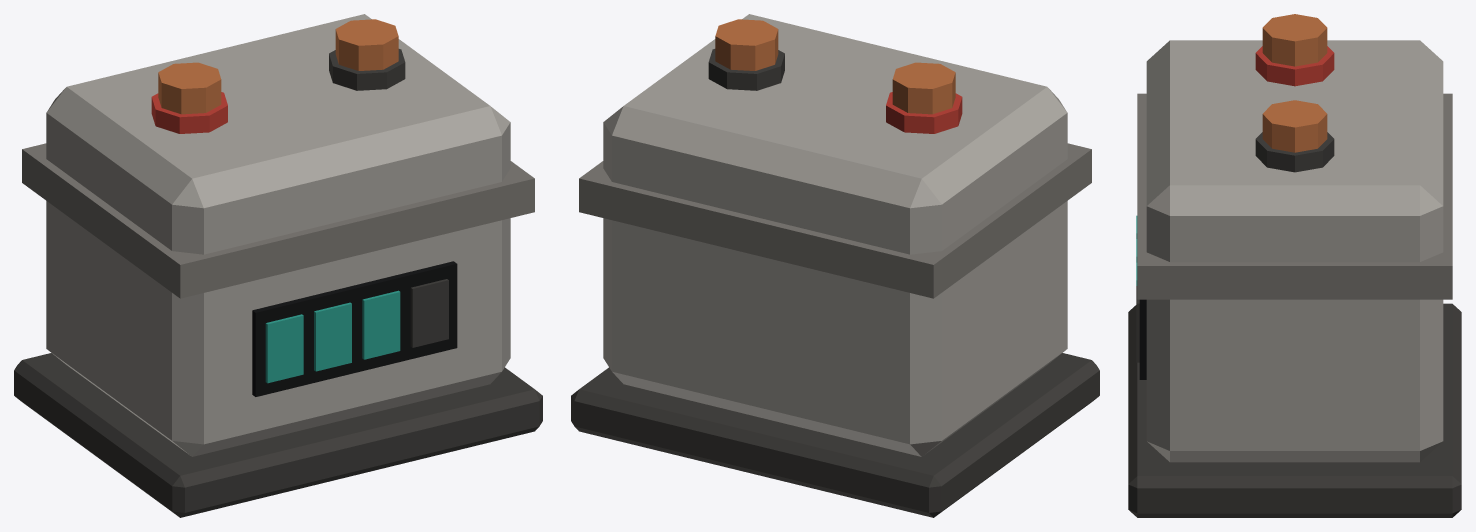
File: battery.fbx
The picture shows the model from 3 angles, left to right: view 1: azimuth 30°, elevation 25°; view 2: azimuth 150°, elevation 25°; view 3: azimuth 270°, elevation 25°; orthographic projection.
Visible parts, largest first — view 1: battery; view 2: battery; view 3: battery.
Boxes of the visible parts, x1,y1,x2,y2 form: battery: (14,14,542,517); battery: (571,14,1099,517); battery: (1128,14,1461,517).
Size of the model in its own units: 2.76 by 2.58 by 2.16.
